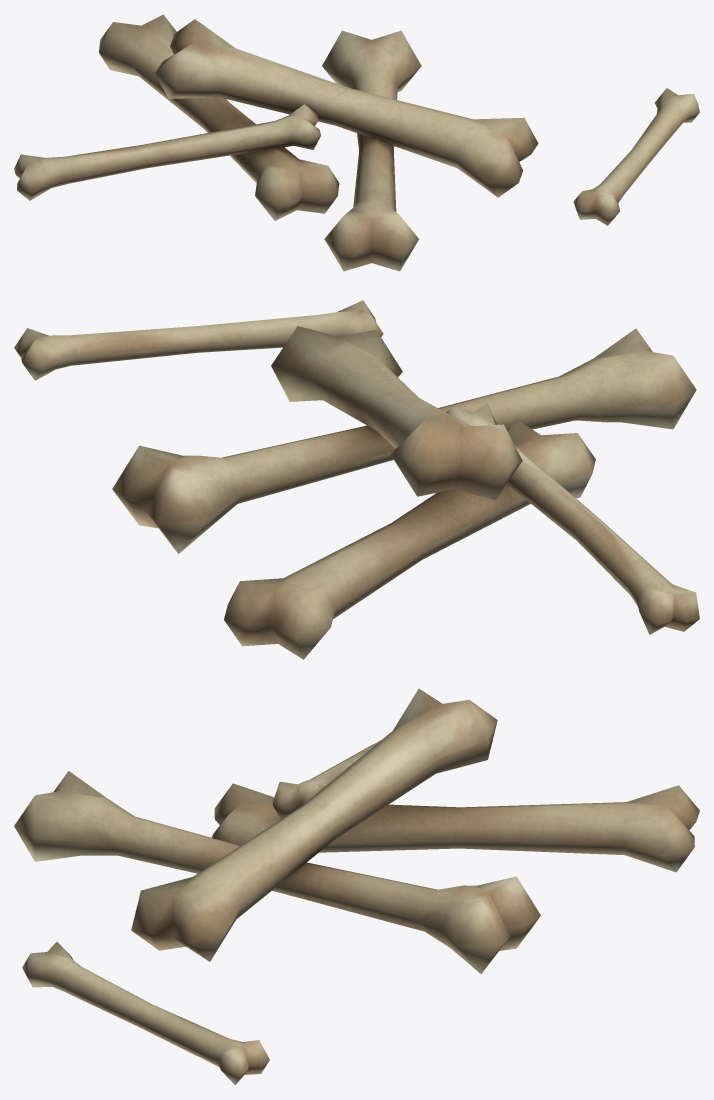
The model's file is sm_bg_bone_01.fbx.
The picture shows the model from 3 angles, top to bottom: view 1: azimuth 30°, elevation 25°; view 2: azimuth 150°, elevation 25°; view 3: azimuth 270°, elevation 25°; orthographic projection. The views are drawn at different scales.
Parts seen in each view (by area): view 1: Cylinder049; view 2: Cylinder049; view 3: Cylinder049.
Boxes of the visible parts, x1,y1,x2,y2 form: Cylinder049: (14, 14, 699, 271); Cylinder049: (14, 300, 699, 659); Cylinder049: (14, 688, 699, 1085).
Bounding box in the file's own units: 107 × 21.9 × 88.48.
1 material, 1 textured.
